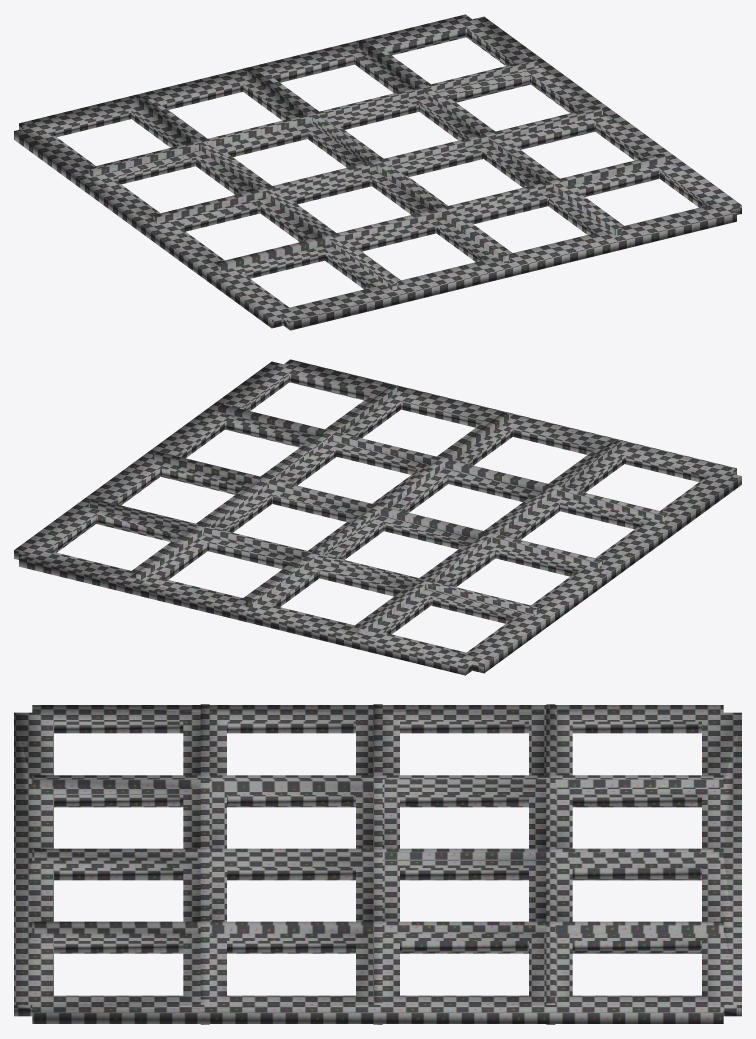
Rendered from plate.glb.
3 views of the same model, one above another, from view 1: azimuth 30°, elevation 25°; view 2: azimuth 150°, elevation 25°; view 3: azimuth 270°, elevation 25° (orthographic). The views are drawn at different scales.
Parts seen in each view (by area): view 1: plate; view 2: plate; view 3: plate.
Part boxes in pixels (x1=…): plate: x1=14, y1=14, x2=741, y2=330; plate: x1=14, y1=359, x2=741, y2=675; plate: x1=14, y1=704, x2=741, y2=1024.
Bounding box in the file's own units: 80 × 3.4 × 80.
Materials: 1 (1 with a texture image).
